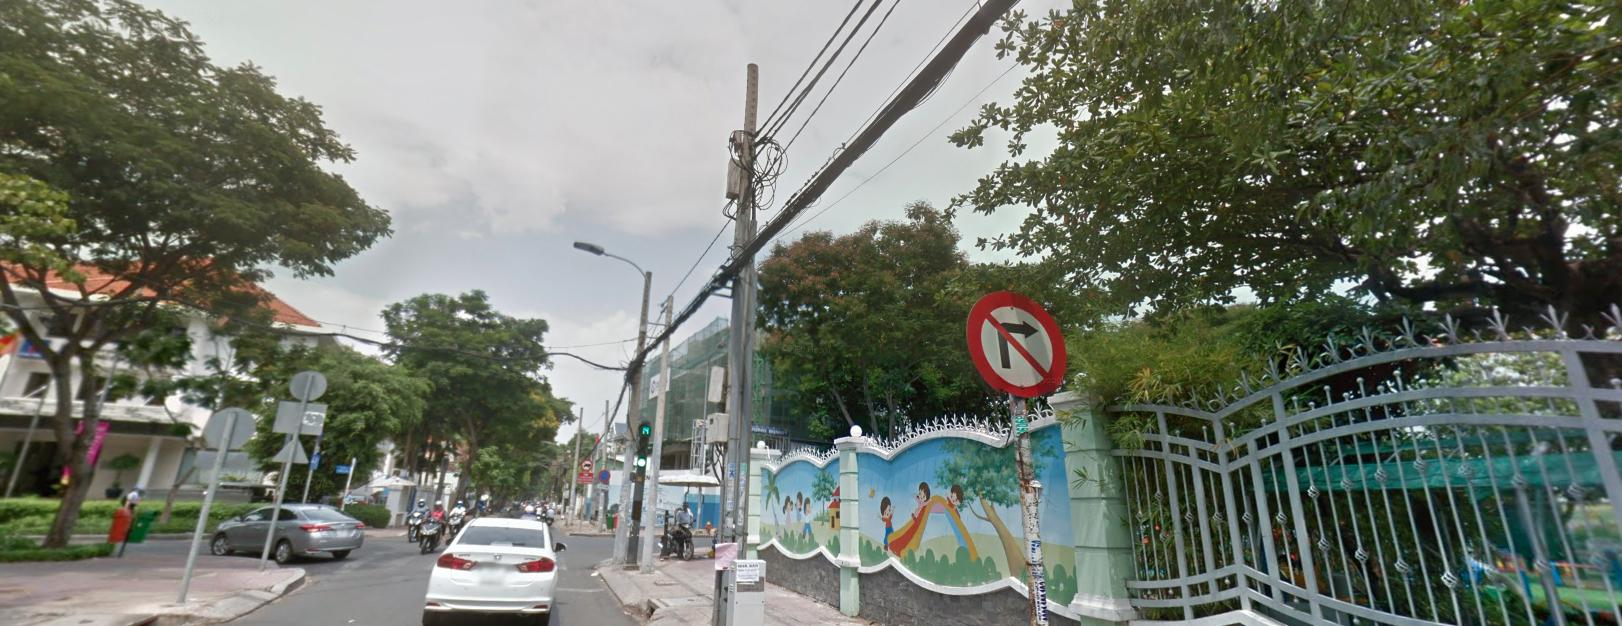Cam con lai: (580, 457, 592, 469)
Cam dung va do: (598, 468, 610, 481)
Cam re: (965, 289, 1065, 393)
